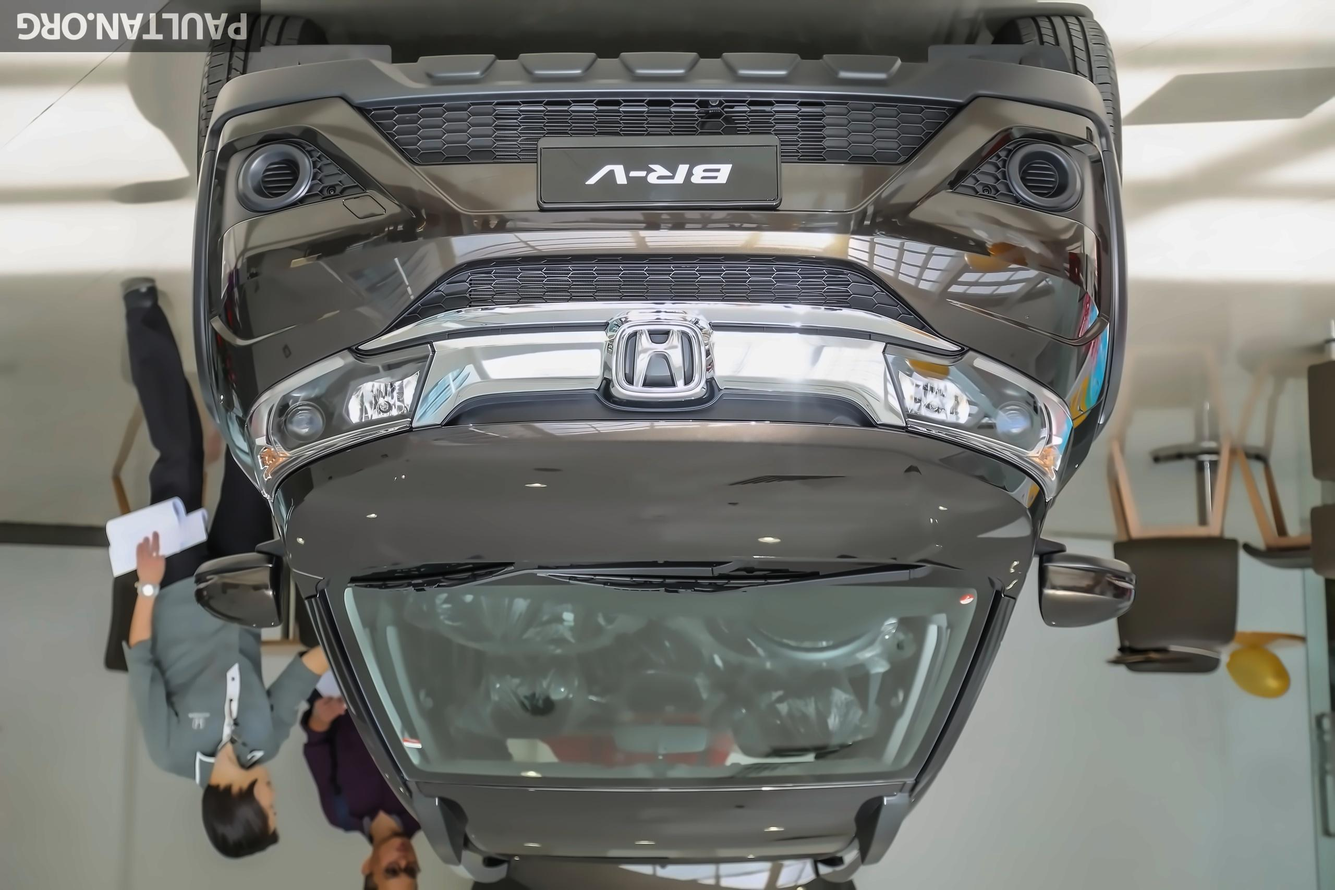Car hood: (273, 434, 1047, 598)
Front bumper: (184, 42, 1141, 347)
Headlight - -L-: (233, 325, 447, 501)
Headlight - -R-: (871, 327, 1084, 516)
Side mirror - -L-: (183, 544, 308, 649)
Side mirror - -R-: (1022, 541, 1146, 636)
